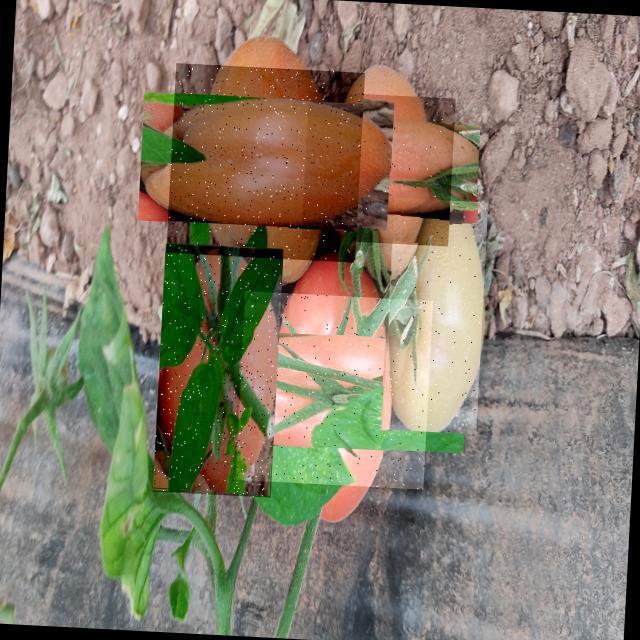Ripe Tomato: (236, 291, 434, 490), (152, 243, 284, 498)
Unripe Tomato: (166, 63, 365, 263), (382, 198, 488, 434), (301, 91, 456, 246)
